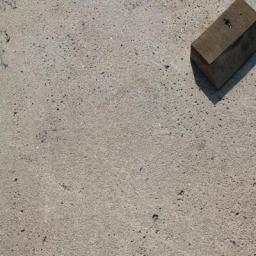FOD: (189, 1, 256, 106)
